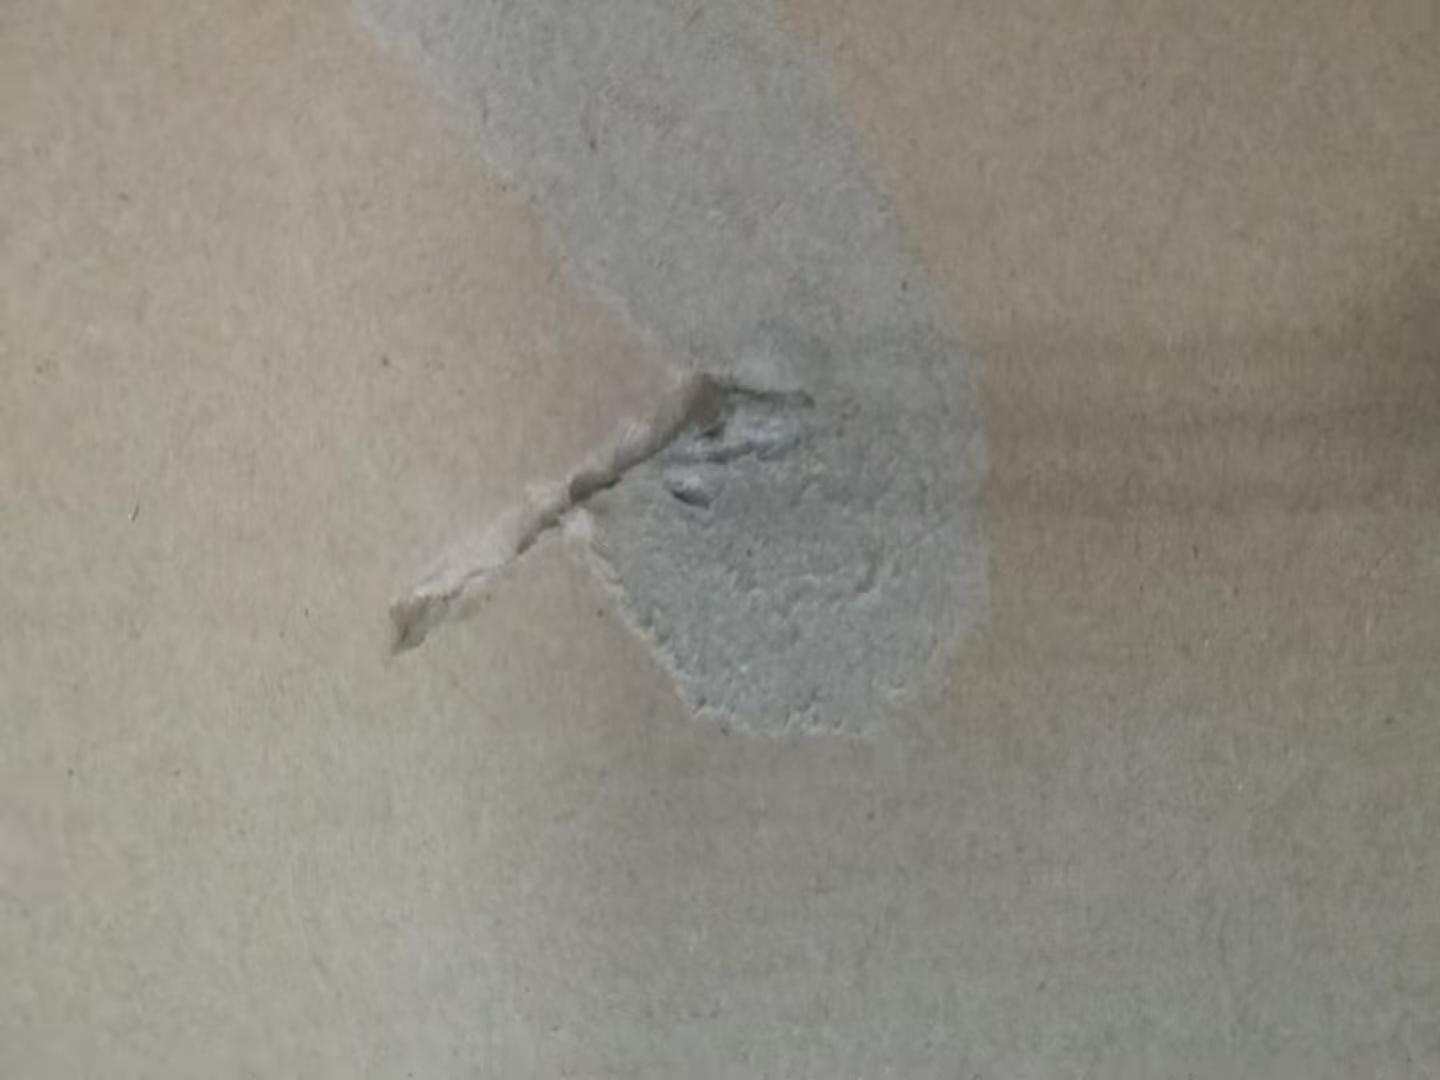defect: (293, 2, 1050, 790)
